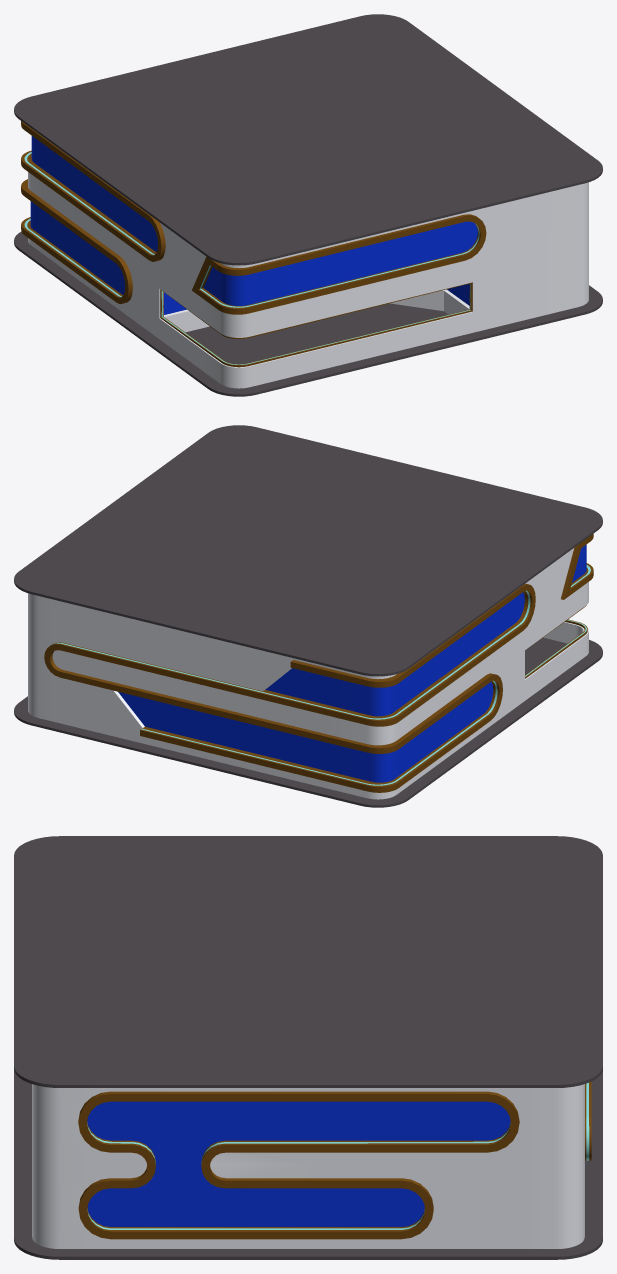
Rendered from SM_B_i4_mid2.fbx.
3 renders of one model, top to bottom at view 1: azimuth 30°, elevation 25°; view 2: azimuth 150°, elevation 25°; view 3: azimuth 270°, elevation 25°, orthographic. The views are drawn at different scales.
Visible parts, largest first — view 1: SM_B_i4_mid2; view 2: SM_B_i4_mid2; view 3: SM_B_i4_mid2.
Part boxes in pixels (x1,y1,x2,y2): SM_B_i4_mid2: (14,14,602,396); SM_B_i4_mid2: (14,425,602,807); SM_B_i4_mid2: (14,836,602,1259).
Size of the model in its own units: 2100 by 688 by 2100.
